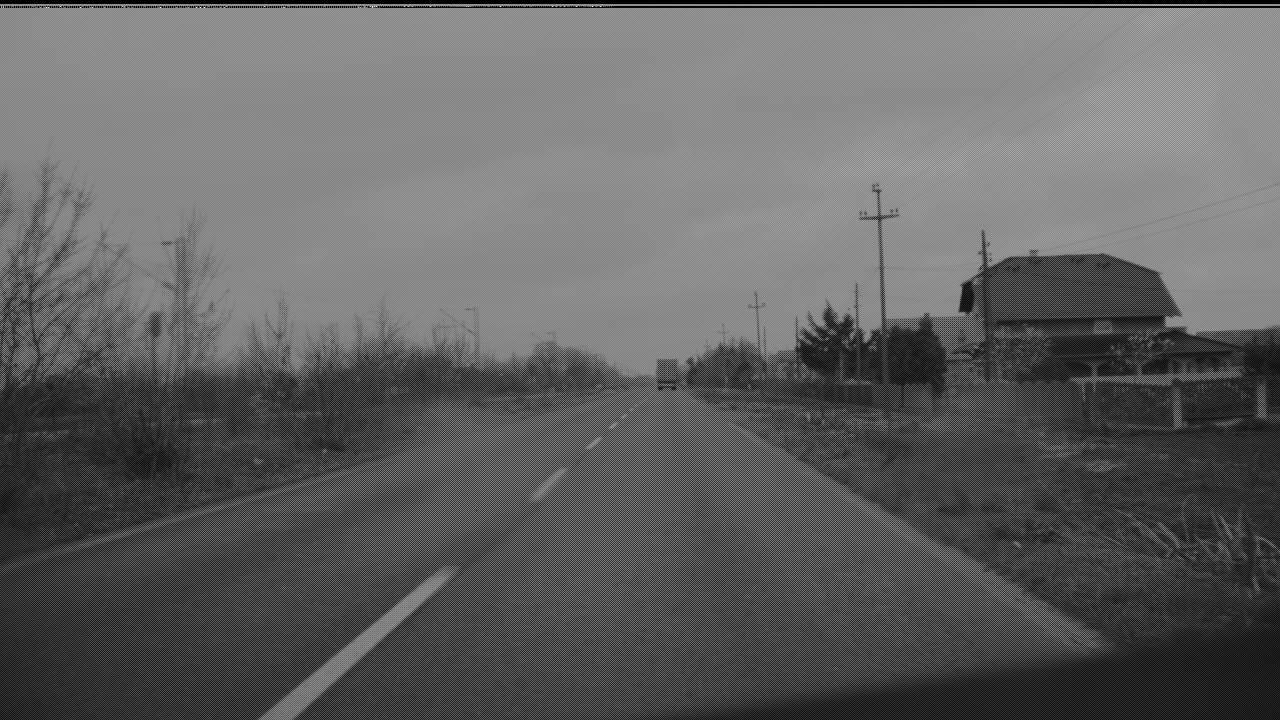pole: (874, 180, 889, 411), (754, 285, 764, 387)
